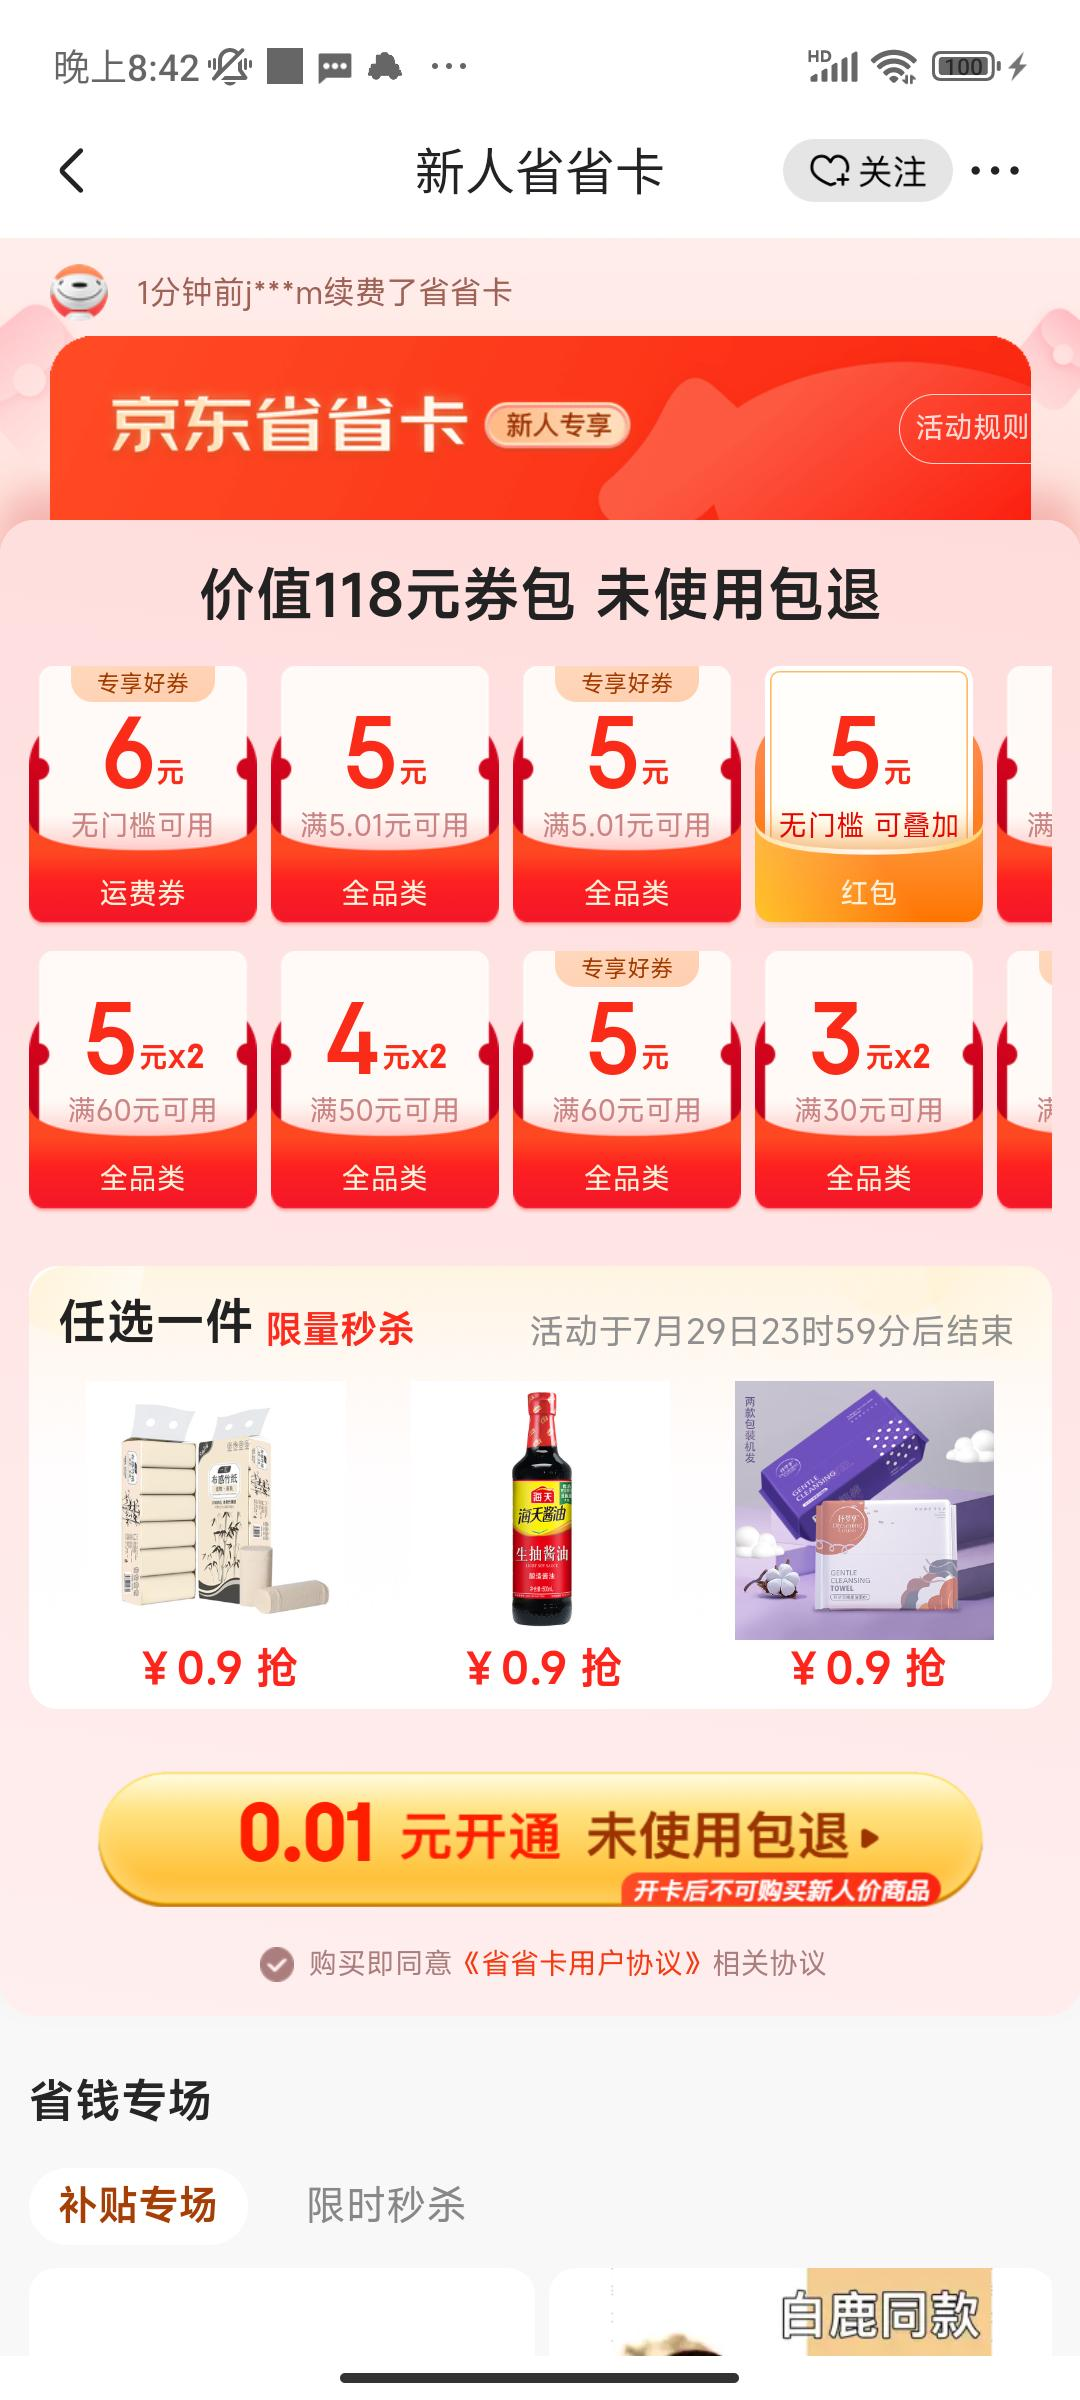ui_group: (2, 236, 1080, 2013)
